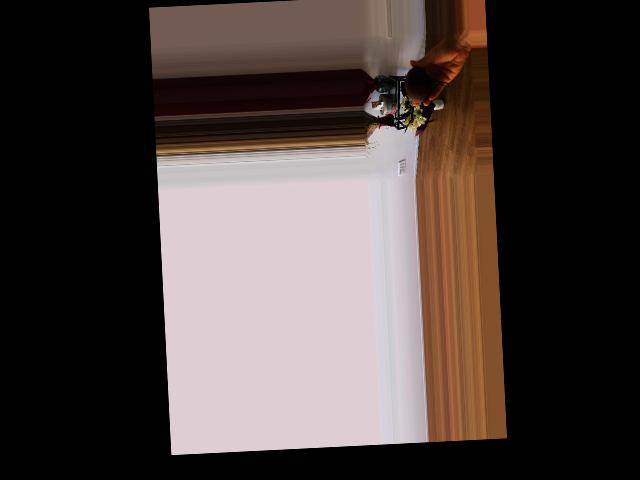beet: (400, 66, 450, 104)
